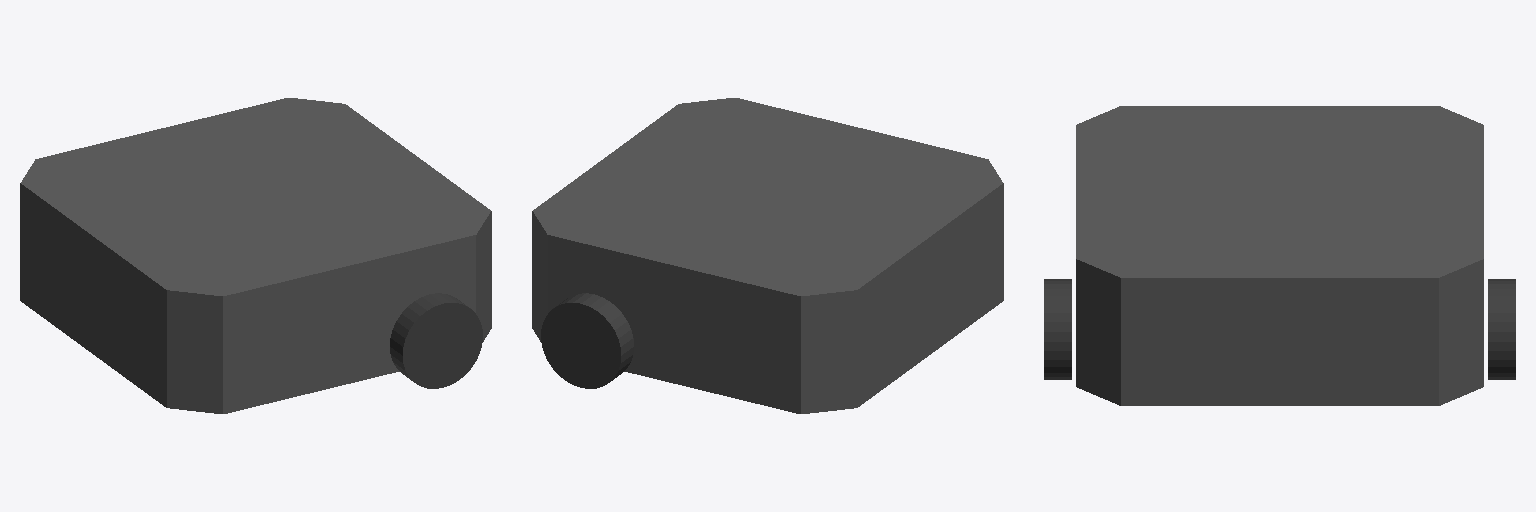
URDF robot description (turtlebot3_waffle):
<?xml version="1.0" ?>
<robot name="turtlebot3_waffle" xmlns:xacro="http://ros.org/wiki/xacro">
  <!-- <xacro:include filename="$(find turtlebot3_description)/urdf/common_properties.urdf"/>

  <xacro:property name="r200_cam_rgb_px" value="0.005"/>
  <xacro:property name="r200_cam_rgb_py" value="0.018"/>
  <xacro:property name="r200_cam_rgb_pz" value="0.013"/>
  <xacro:property name="r200_cam_depth_offset" value="0.01"/> -->

  <!-- Init colour -->
  <material name="black">
      <color rgba="0.0 0.0 0.0 1.0"/>
  </material>

  <material name="dark">
    <color rgba="0.3 0.3 0.3 1.0"/>
  </material>

  <material name="light_black">
    <color rgba="0.4 0.4 0.4 1.0"/>
  </material>

  <material name="blue">
    <color rgba="0.0 0.0 0.8 1.0"/>
  </material>

  <material name="green">
    <color rgba="0.0 0.8 0.0 1.0"/>
  </material>

  <material name="grey">
    <color rgba="0.5 0.5 0.5 1.0"/>
  </material>

  <material name="orange">
    <color rgba="1.0 0.4235 0.0392 1.0"/>
  </material>

  <material name="brown">
    <color rgba="0.8706 0.8118 0.7647 1.0"/>
  </material>

  <material name="red">
    <color rgba="0.8 0.0 0.0 1.0"/>
  </material>

  <material name="white">
    <color rgba="1.0 1.0 1.0 1.0"/>
  </material>

  <link name="base_footprint"/>

  <joint name="base_joint" type="fixed">
    <parent link="base_footprint"/>
    <child link="base_link" />
    <origin xyz="0 0 0.010" rpy="0 0 0"/>
  </joint>

  <link name="base_link">
    <visual>
      <origin xyz="-0.064 0 0.0" rpy="0 0 0"/>
      <geometry>
        <mesh filename="package://followme_turtlebot3_gazebo/models/turtlebot3_common/meshes/waffle_base.dae" scale="0.001 0.001 0.001"/>
      </geometry>
      <material name="light_black"/>
    </visual>
  
    <collision>
      <origin xyz="-0.064 0 0.047" rpy="0 0 0"/>
      <geometry>
        <box size="0.266 0.266 0.094"/>
      </geometry>
    </collision>

    <inertial>
      <origin xyz="0 0 0" rpy="0 0 0"/>
      <mass value="1.3729096e+00"/>
      <inertia ixx="8.7002718e-03" ixy="-4.7576583e-05" ixz="1.1160499e-04"
               iyy="8.6195418e-03" iyz="-3.5422299e-06"
               izz="1.4612727e-02" />
    </inertial>
  </link>

  <joint name="wheel_left_joint" type="continuous">
    <parent link="base_link"/>
    <child link="wheel_left_link"/>
    <origin xyz="0.0 0.144 0.023" rpy="-1.57 0 0"/>
    <axis xyz="0 0 1"/>
  </joint>

  <link name="wheel_left_link">
    <visual>
      <origin xyz="0 0 0" rpy="1.57 0 0"/>
      <geometry>
        <mesh filename="package://followme_turtlebot3_gazebo/models/turtlebot3_common/meshes/tire.dae" scale="0.001 0.001 0.001"/>
      </geometry>
      <material name="dark"/>
    </visual>

    <collision>
      <origin xyz="0 0 0" rpy="0 0 0"/>
      <geometry>
        <cylinder length="0.018" radius="0.033"/>
      </geometry>
    </collision>

    <inertial>
      <origin xyz="0 0 0" />
      <mass value="2.8498940e-02" />
      <inertia ixx="1.1175580e-05" ixy="-4.2369783e-11" ixz="-5.9381719e-09"
               iyy="1.1192413e-05" iyz="-1.4400107e-11"
               izz="2.0712558e-05" />
      </inertial>
  </link>

  <joint name="wheel_right_joint" type="continuous">
    <parent link="base_link"/>
    <child link="wheel_right_link"/>
    <origin xyz="0.0 -0.144 0.023" rpy="-1.57 0 0"/>
    <axis xyz="0 0 1"/>
  </joint>

  <link name="wheel_right_link">
    <visual>
      <origin xyz="0 0 0" rpy="1.57 0 0"/>
      <geometry>
        <mesh filename="package://followme_turtlebot3_gazebo/models/turtlebot3_common/meshes/tire.dae" scale="0.001 0.001 0.001"/>
      </geometry>
      <material name="dark"/>
    </visual>

    <collision>
      <origin xyz="0 0 0" rpy="0 0 0"/>
      <geometry>
        <cylinder length="0.018" radius="0.033"/>
      </geometry>
    </collision>

    <inertial>
      <origin xyz="0 0 0" />
      <mass value="2.8498940e-02" />
      <inertia ixx="1.1175580e-05" ixy="-4.2369783e-11" ixz="-5.9381719e-09"
               iyy="1.1192413e-05" iyz="-1.4400107e-11"
               izz="2.0712558e-05" />
      </inertial>
  </link>

  <joint name="caster_back_right_joint" type="fixed">
    <parent link="base_link"/>
    <child link="caster_back_right_link"/>
    <origin xyz="-0.177 -0.064 -0.004" rpy="-1.57 0 0"/>
  </joint>

  <link name="caster_back_right_link">
    <collision>
      <origin xyz="0 0.001 0" rpy="0 0 0"/>
      <geometry>
        <box size="0.030 0.009 0.020"/>
      </geometry>
    </collision>

    <inertial>
      <origin xyz="0 0 0" />
      <mass value="0.005" />
      <inertia ixx="0.001" ixy="0.0" ixz="0.0"
               iyy="0.001" iyz="0.0"
               izz="0.001" />
    </inertial>
  </link>

  <joint name="caster_back_left_joint" type="fixed">
    <parent link="base_link"/>
    <child link="caster_back_left_link"/>
    <origin xyz="-0.177 0.064 -0.004" rpy="-1.57 0 0"/>
  </joint>

  <link name="caster_back_left_link">
    <collision>
      <origin xyz="0 0.001 0" rpy="0 0 0"/>
      <geometry>
        <box size="0.030 0.009 0.020"/>
      </geometry>
    </collision>

    <inertial>
      <origin xyz="0 0 0" />
      <mass value="0.005" />
      <inertia ixx="0.001" ixy="0.0" ixz="0.0"
               iyy="0.001" iyz="0.0"
               izz="0.001" />
    </inertial>
  </link>

  <joint name="imu_joint" type="fixed">
    <parent link="base_link"/>
    <child link="imu_link"/>
    <origin xyz="0.0 0 0.068" rpy="0 0 0"/>
  </joint>

  <link name="imu_link"/>

  <joint name="scan_joint" type="fixed">
    <parent link="base_link"/>
    <child link="base_scan"/>
    <origin xyz="-0.064 0 0.122" rpy="0 0 0"/>
  </joint>

  <link name="base_scan">
    <visual>
      <origin xyz="0 0 0" rpy="0 0 0"/>
      <geometry>
        <mesh filename="package://followme_turtlebot3_gazebo/models/turtlebot3_common/meshes/lds.dae" scale="0.001 0.001 0.001"/>
      </geometry>
      <material name="dark"/>
    </visual>

    <collision>
      <origin xyz="0.015 0 -0.0065" rpy="0 0 0"/>
      <geometry>
        <cylinder length="0.0315" radius="0.055"/>
      </geometry>
    </collision>

    <inertial>
      <mass value="0.114" />
      <origin xyz="0 0 0" />
      <inertia ixx="0.001" ixy="0.0" ixz="0.0"
               iyy="0.001" iyz="0.0"
               izz="0.001" />
    </inertial>
  </link>

  <joint name="camera_joint" type="fixed">
    <origin xyz="0.064 -0.065 0.094" rpy="0 0 0"/>
    <parent link="base_link"/>
    <child link="camera_link"/>
  </joint>

  <link name="camera_link">
    <visual>
     <origin xyz="0 0 0" rpy="1.57 0 1.57"/>
      <geometry>
       <mesh filename="package://followme_turtlebot3_gazebo/models/turtlebot3_common/meshes/r200.dae" />
      </geometry>
    </visual>
    <collision>
      <origin xyz="0.003 0.065 0.007" rpy="0 0 0"/>
      <geometry>
        <box size="0.012 0.132 0.020"/>
      </geometry>
    </collision>

    <!-- This inertial field needs doesn't contain reliable data!! -->
<!--   <inertial>
      <mass value="0.564" />
      <origin xyz="0 0 0" />
      <inertia ixx="0.003881243" ixy="0.0" ixz="0.0"
               iyy="0.000498940" iyz="0.0"
               izz="0.003879257" />
    </inertial>-->
  </link>

  <joint name="camera_rgb_joint" type="fixed">
    <origin xyz="0.005 0.018 0.013" rpy="0 0 0"/>
    <!-- <origin xyz="${r200_cam_rgb_px} ${r200_cam_rgb_py} ${r200_cam_rgb_pz}" rpy="0 0 0"/> -->
    <parent link="camera_link"/>
    <child link="camera_rgb_frame"/>
  </joint>
  <link name="camera_rgb_frame"/>

  <joint name="camera_rgb_optical_joint" type="fixed">
    <origin xyz="0 0 0" rpy="-1.57 0 -1.57"/>
    <parent link="camera_rgb_frame"/>
    <child link="camera_rgb_optical_frame"/>
  </joint>
  <link name="camera_rgb_optical_frame"/>

  <joint name="camera_depth_joint" type="fixed">
    <origin xyz="0.005 0.028 0.013" rpy="0 0 0"/>
    <!-- <origin xyz="${r200_cam_rgb_px} ${r200_cam_rgb_py + r200_cam_depth_offset} ${r200_cam_rgb_pz}" rpy="0 0 0"/> -->
    <parent link="camera_link"/>
    <child link="camera_depth_frame"/>
  </joint>
  <link name="camera_depth_frame"/>

  <joint name="camera_depth_optical_joint" type="fixed">
    <origin xyz="0 0 0" rpy="-1.57 0 -1.57"/>
    <parent link="camera_depth_frame"/>
    <child link="camera_depth_optical_frame"/>
  </joint>
  <link name="camera_depth_optical_frame"/>

</robot>

--- Facts derived from the render (not from the file) ---
Views: 3 orthographic renders of the robot side by side, from view 1: azimuth 30°, elevation 25°; view 2: azimuth 150°, elevation 25°; view 3: azimuth 270°, elevation 25°.
Model turtlebot3_waffle with 13 links and 12 joints (2 continuous, 10 fixed), rooted at base_footprint, posed every joint at zero.
Visible links, largest first — view 1: base_link, wheel_right_link; view 2: base_link, wheel_left_link; view 3: base_link, wheel_left_link, wheel_right_link.
Boxes of the visible links, left/top/right/bottom form: base_link: left=20, top=98, right=491, bottom=413; wheel_right_link: left=390, top=293, right=482, bottom=388; base_link: left=532, top=98, right=1003, bottom=413; wheel_left_link: left=541, top=293, right=633, bottom=388; base_link: left=1076, top=106, right=1483, bottom=405; wheel_left_link: left=1488, top=279, right=1515, bottom=379; wheel_right_link: left=1044, top=279, right=1071, bottom=379.
Size in the robot's own frame: 0.265 by 0.3062 by 0.102 metres.
Meshes: 4 distinct files referenced, 3 mesh visuals loaded (2 Collada DAE); not drawn: 2 (reference not matched to a file when rendering).